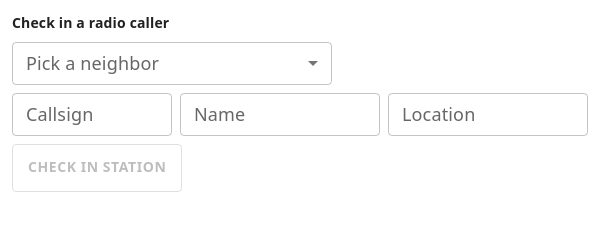
Scenario: RadioCheckinForm › prefills the right person when two contacts share a callsign
Click the dropdown named "pick a neighbor" at (172, 63), box [12,42,332,85]
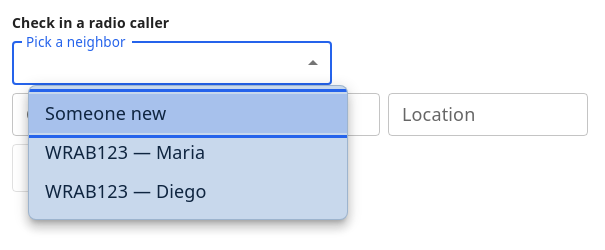
Click the option "WRAB123 — Diego" at (126, 191), box [45,179,206,203]
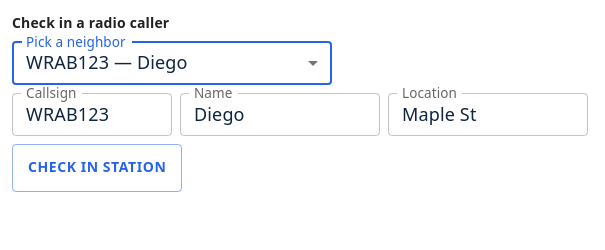
Expected: the field labelled "Name" holds "Diego", [180,93,380,136]
Expected: the field labelled "Callsign" holds "WRAB123", [12,93,172,136]
